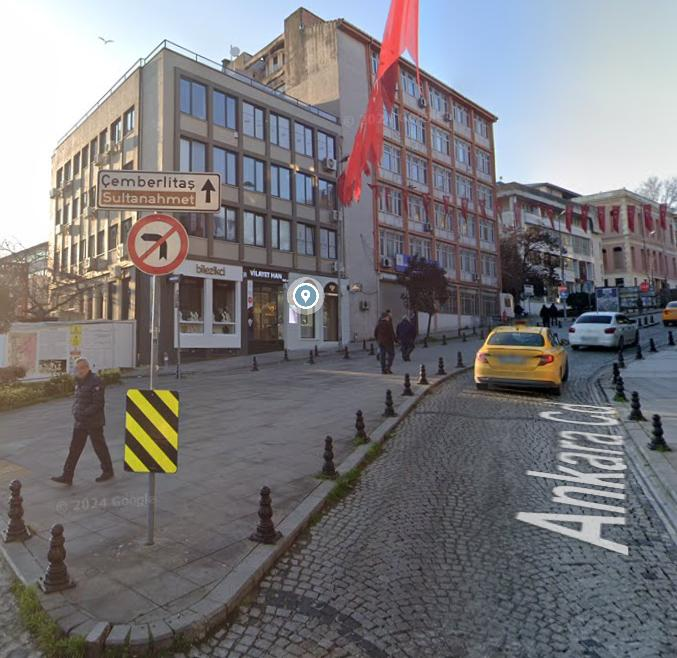leftturnsareforbidden: (126, 212, 189, 275)
